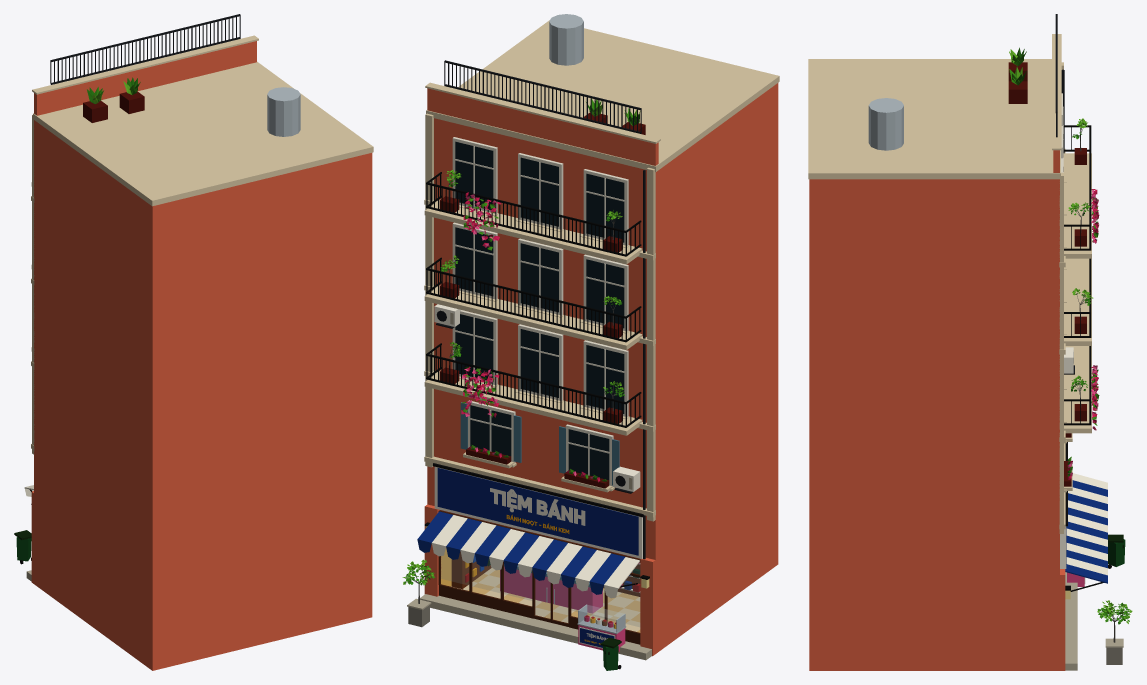
Rendered from PV_StreetShop11.fbx.
The picture shows the model from 3 angles, left to right: view 1: azimuth 30°, elevation 25°; view 2: azimuth 150°, elevation 25°; view 3: azimuth 270°, elevation 25°; orthographic projection. The views are drawn at different scales.
Visible parts, largest first — view 1: PV_StreetShop11_LOD0; view 2: PV_StreetShop11_LOD0; view 3: PV_StreetShop11_LOD0.
Boxes of the visible parts, x1=… form: PV_StreetShop11_LOD0: x1=14, y1=14, x2=373, y2=670; PV_StreetShop11_LOD0: x1=402, y1=14, x2=779, y2=670; PV_StreetShop11_LOD0: x1=808, y1=14, x2=1132, y2=670.
Size of what is drawn, in the model's own units: 8.46 by 18.93 by 10.09.
2 materials, 1 textured.
